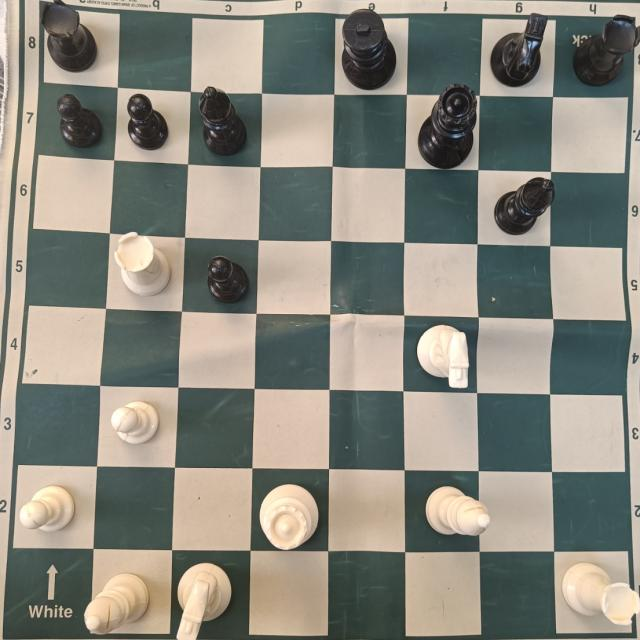black-bishop: (199, 87, 248, 156), (497, 178, 552, 236)
black-king: (341, 9, 397, 88)
black-knight: (489, 14, 547, 87)
black-pawn: (59, 94, 102, 149), (128, 95, 169, 151), (209, 255, 250, 300)
black-queen: (420, 81, 477, 168)
black-rook: (574, 15, 640, 82), (41, 0, 97, 70)
white-bishop: (87, 573, 151, 632), (426, 485, 491, 538)
white-knight: (179, 560, 230, 640), (416, 322, 472, 387)
white-pawn: (21, 484, 76, 535), (112, 398, 159, 447)
white-queen: (261, 482, 321, 551)
white-rook: (562, 559, 640, 627), (114, 232, 173, 298)
